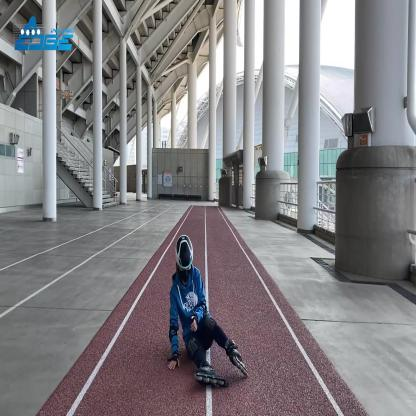Fall_Down: (166, 235, 243, 382)
